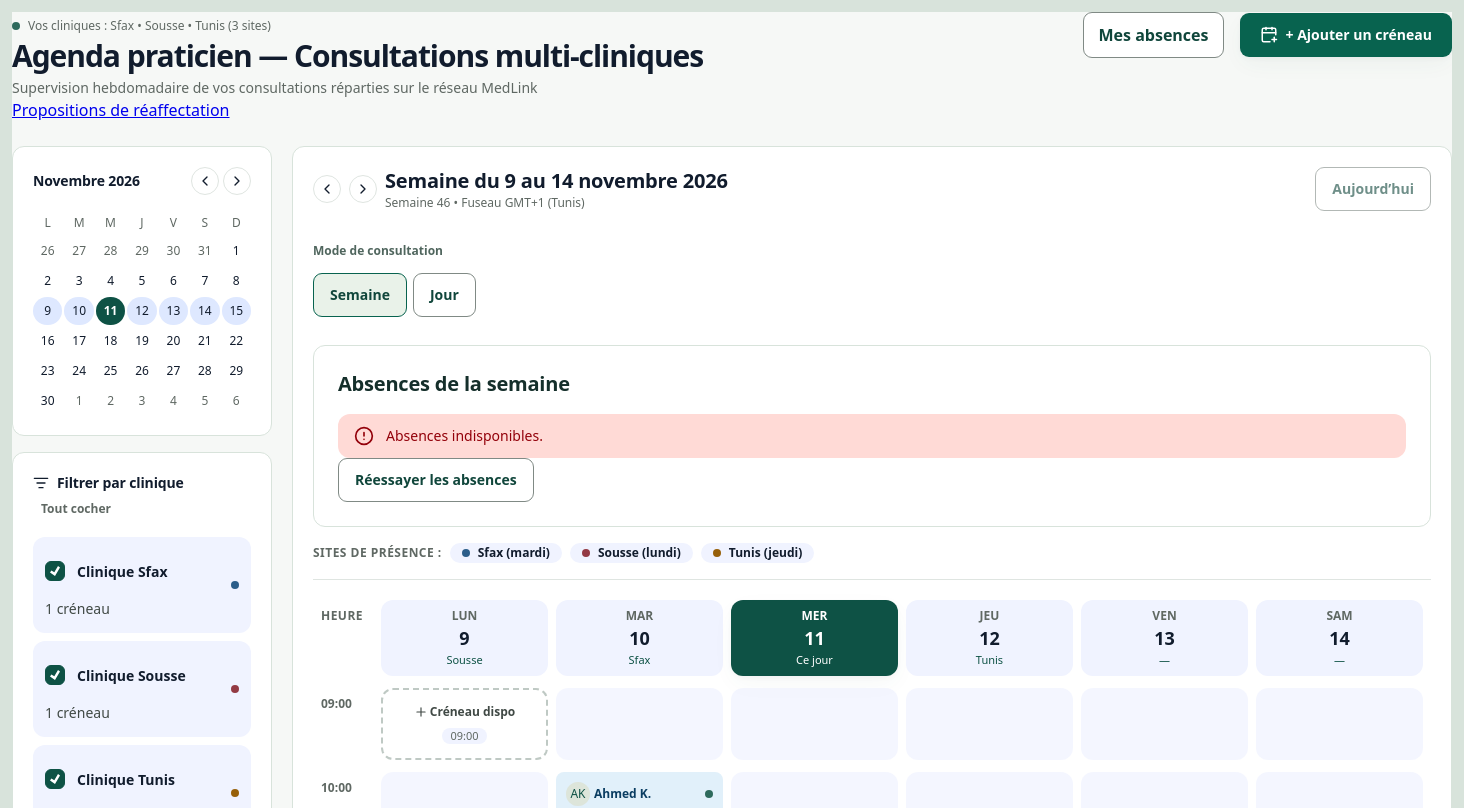
it: US-21: an absence lookup error is visible without hiding the agenda and can be retried
Expected: the message reads "Absences indisponibles.", left=386, top=426, right=543, bottom=445
What coordinates should you click on to do the following:
click the button "Réessayer les absences"
I would click on:
 (436, 480)
Its box is left=338, top=458, right=534, bottom=502.
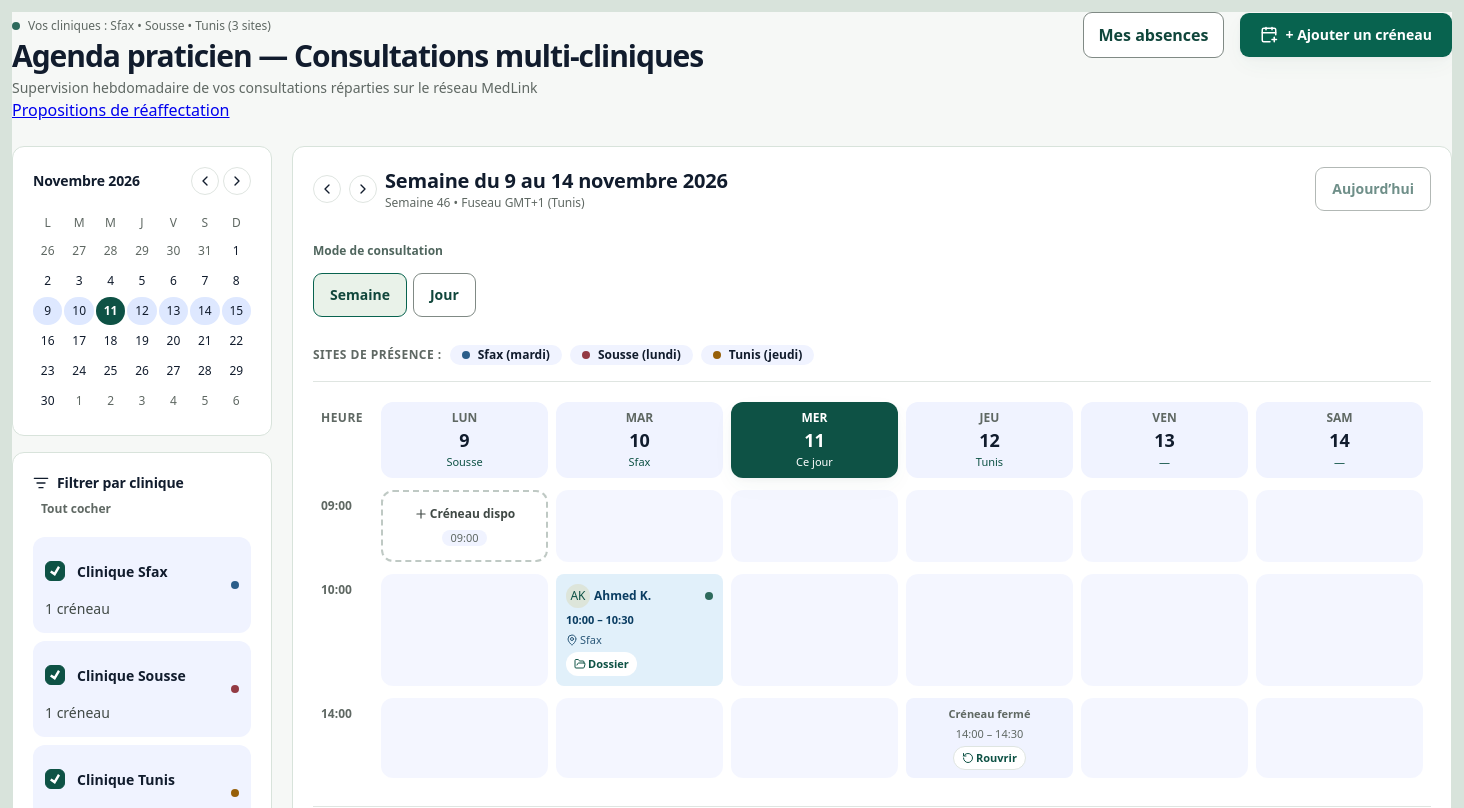
Now the message "Absences indisponibles." is gone
